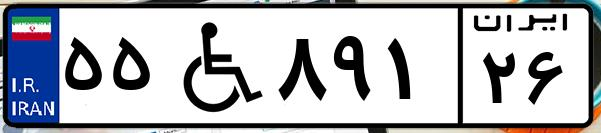1: (385, 28, 445, 110)
2: (475, 38, 525, 113)
5: (57, 26, 110, 100), (110, 28, 158, 98)
6: (525, 38, 570, 115)
8: (270, 28, 330, 110)
9: (330, 28, 385, 110)
ژ (معلولین و جانبازان): (158, 12, 270, 120)
